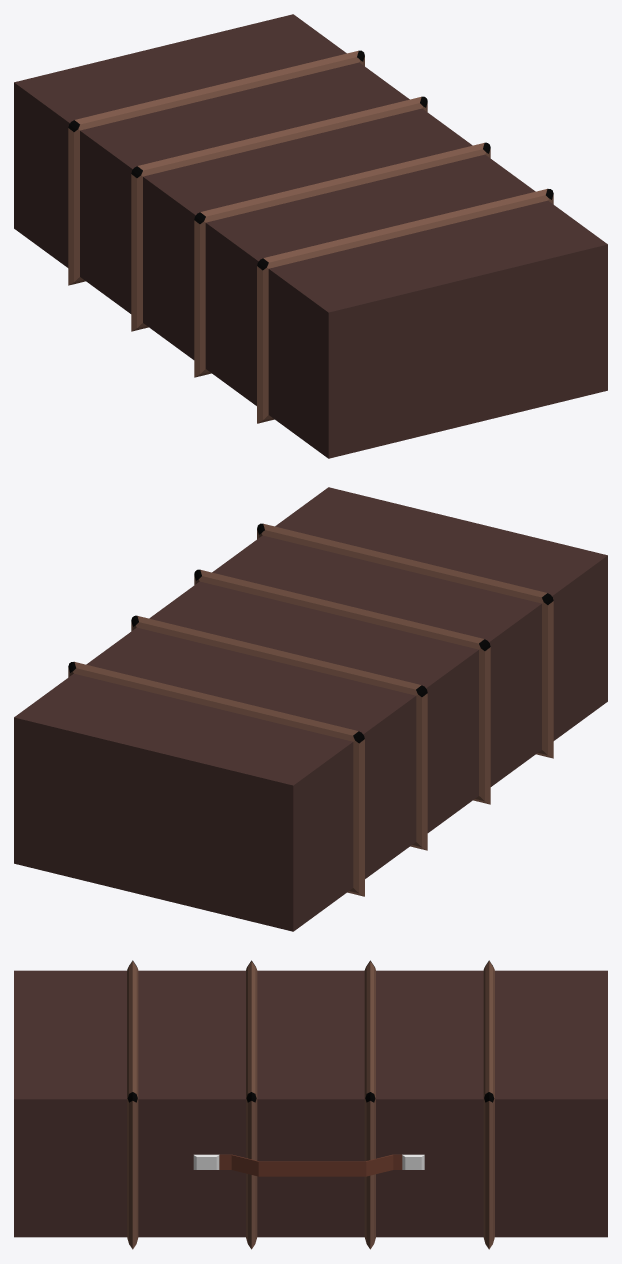
Rendered from Bedroom - handbag.fbx.
3 views of the same model, one above another, from view 1: azimuth 30°, elevation 25°; view 2: azimuth 150°, elevation 25°; view 3: azimuth 270°, elevation 25° (orthographic). The views are drawn at different scales.
Parts seen in each view (by area): view 1: Cube.330; view 2: Cube.330; view 3: Cube.330.
Part boxes in pixels (x1,y1,x2,y2): Cube.330: (14,14,607,458); Cube.330: (14,487,607,931); Cube.330: (14,960,607,1249).
Size of the model in its own units: 217 by 112 by 390.
